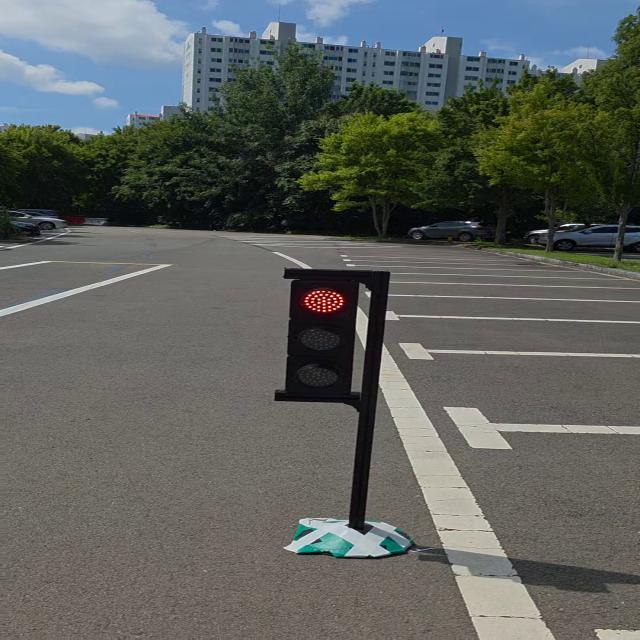red: (267, 269, 394, 414)
